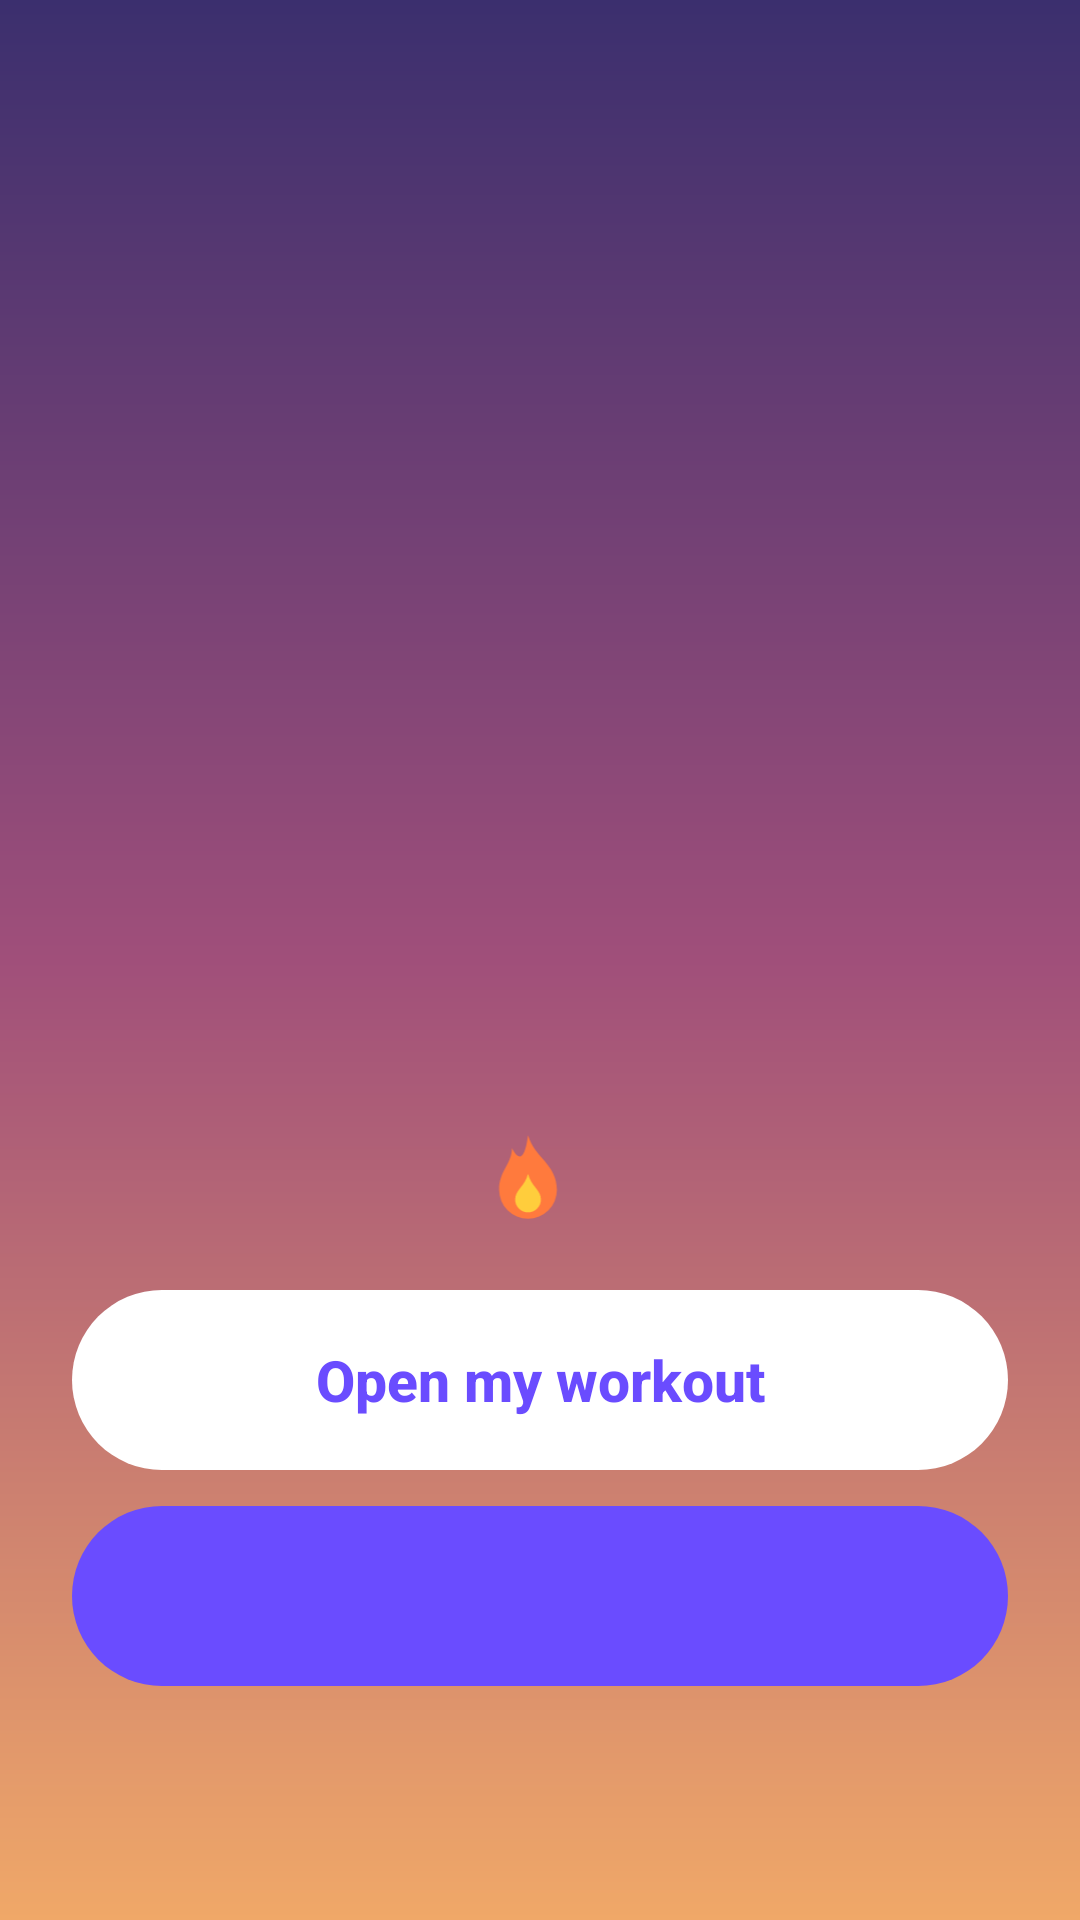

Named icons in this screenshot (1080 x 1920) and their centers, (x,y):
flame: (528,1178)
